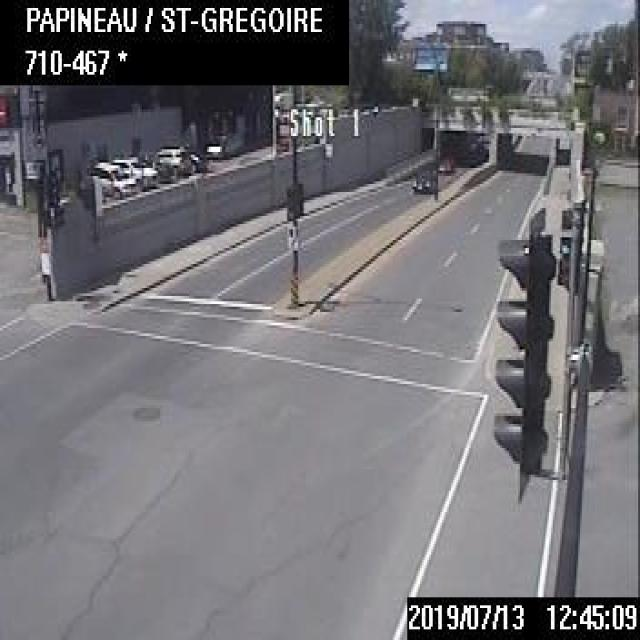vehicle: (82, 159, 138, 200), (110, 154, 157, 193), (151, 144, 193, 181), (204, 128, 248, 158), (411, 157, 437, 192), (434, 154, 457, 175)
